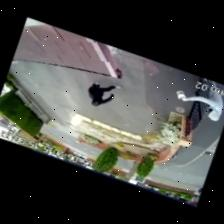person: (181, 90, 222, 120), (87, 81, 120, 105)
